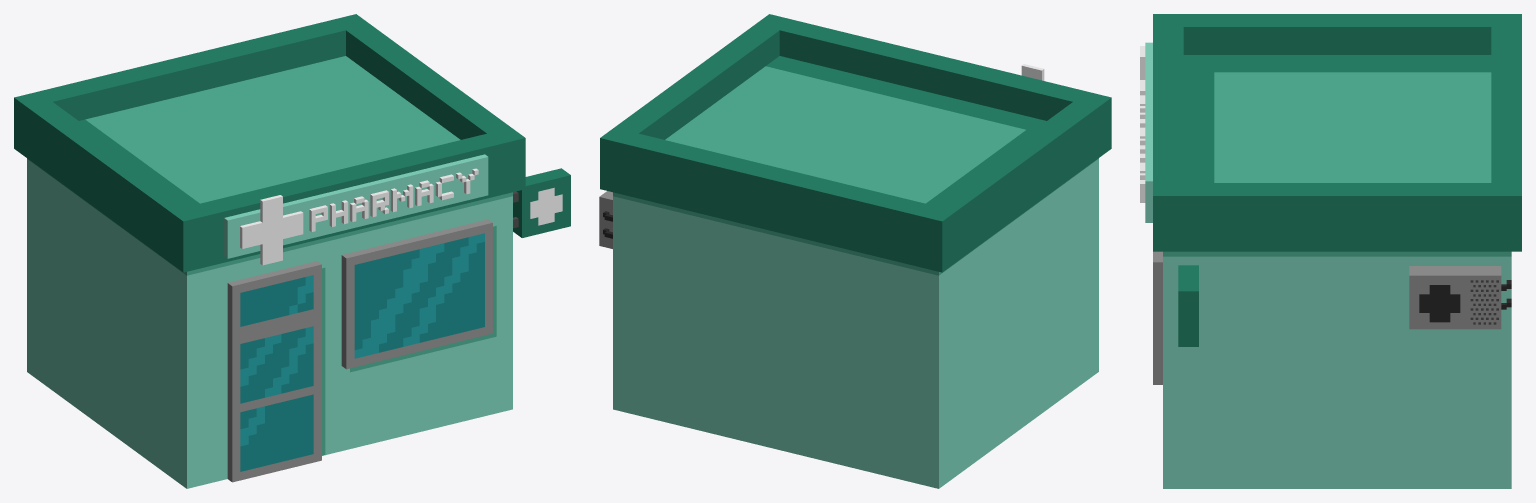
Rendered from pharmacy.fbx.
3 renders of one model, left to right at view 1: azimuth 30°, elevation 25°; view 2: azimuth 150°, elevation 25°; view 3: azimuth 270°, elevation 25°, orthographic. The views are drawn at different scales.
Visible parts, largest first — view 1: Untitled; view 2: Untitled; view 3: Untitled.
Boxes of the visible parts, x1,y1,x2,y2 form: Untitled: (14,14,570,488); Untitled: (599,14,1111,488); Untitled: (1140,14,1521,488).
Size of the model in its own units: 1960 by 1310 by 1490.
1 material, 1 textured.
